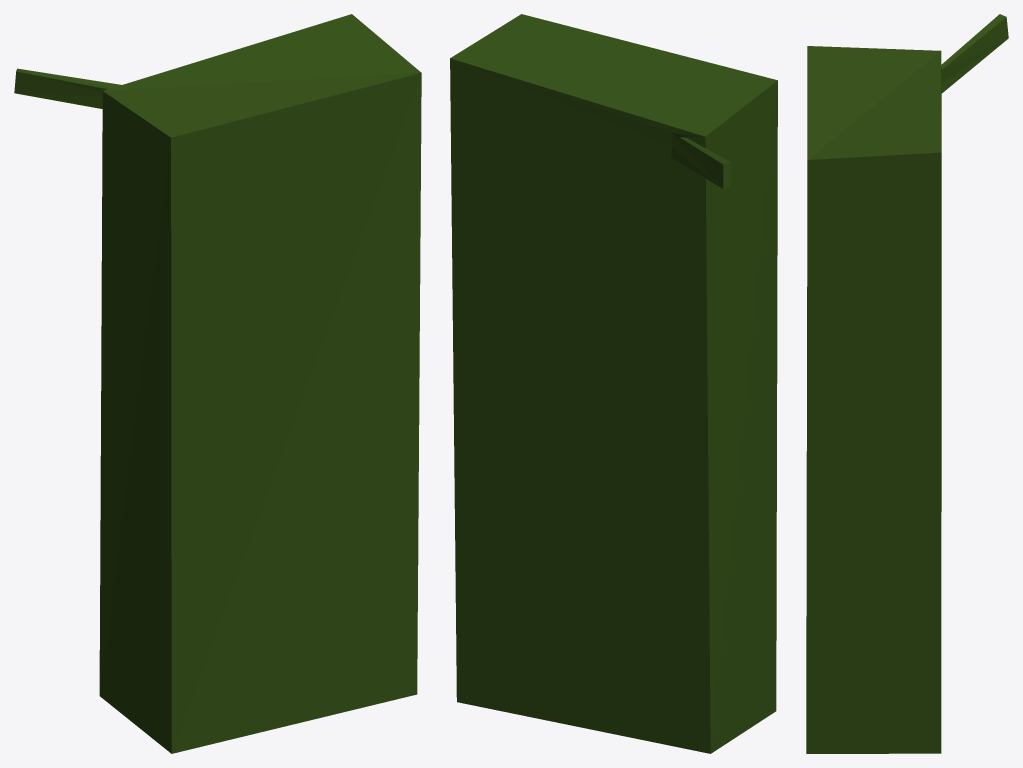
3 views of the same model, side by side, from view 1: azimuth 30°, elevation 25°; view 2: azimuth 150°, elevation 25°; view 3: azimuth 270°, elevation 25° (orthographic). The views are drawn at different scales.
Parts seen in each view (by area): view 1: 595_Cube.2392; view 2: 595_Cube.2392; view 3: 595_Cube.2392.
Boxes of the visible parts, <box> form: 595_Cube.2392: <box>14,14,421,753</box>; 595_Cube.2392: <box>450,14,777,753</box>; 595_Cube.2392: <box>806,14,1008,753</box>.
Bounding box in the file's own units: 6.27 × 12.29 × 3.73.
